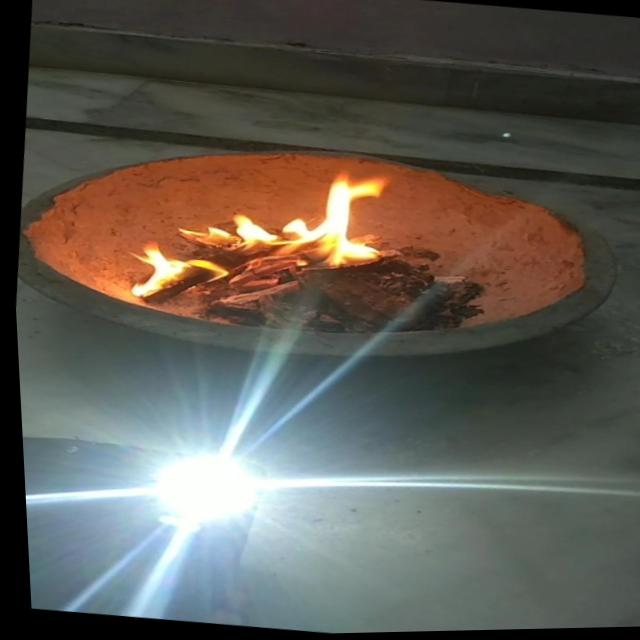fire: (163, 152, 399, 280), (108, 238, 231, 310)
